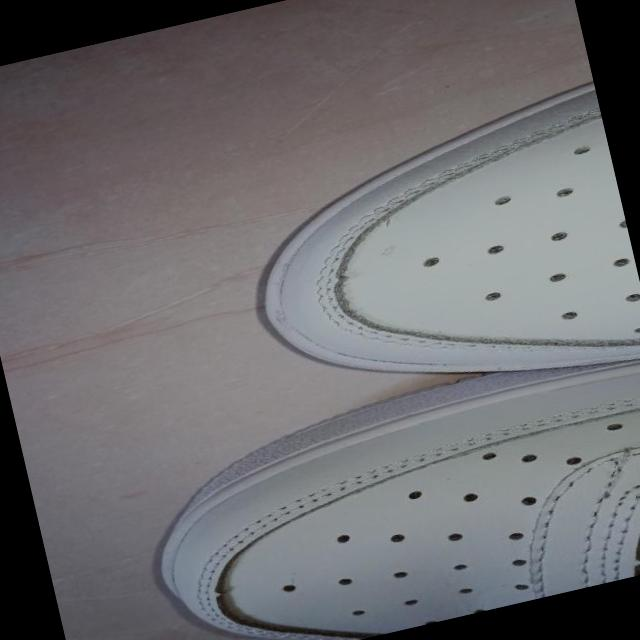nike_fake_airforce: (221, 59, 640, 442), (119, 332, 640, 640)
